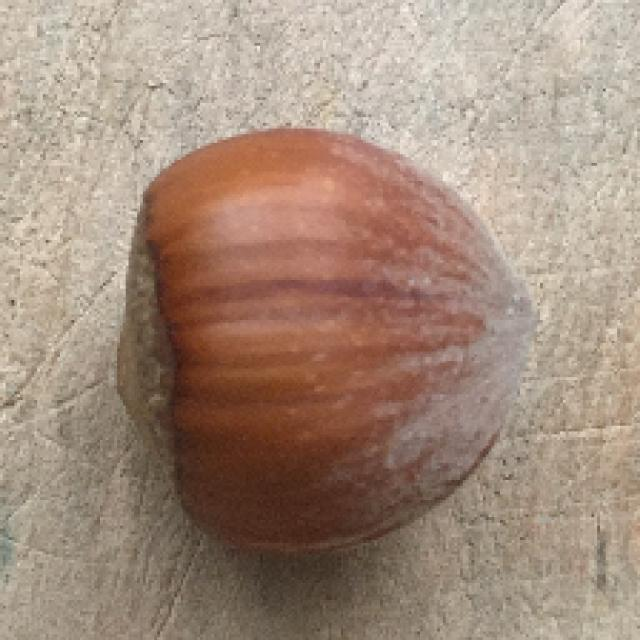qualityHazelnut: (128, 132, 539, 557)
